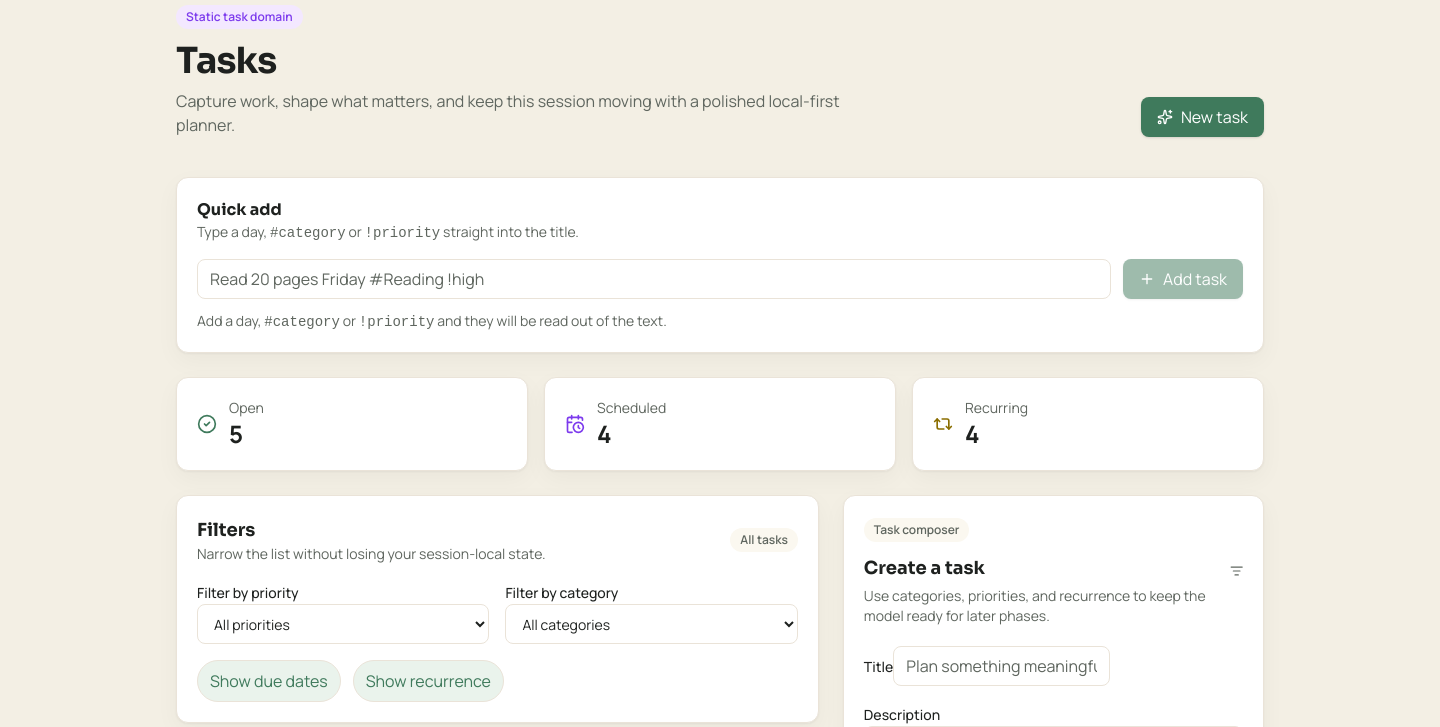
Test case: TasksPage — filtering › narrows the list to a priority
This screenshot has width=1440, height=727.
Step 1. Select "High" in the dropdown labelled "Filter by priority" → [343, 624], box [197,604,489,644]
(page scrolled)
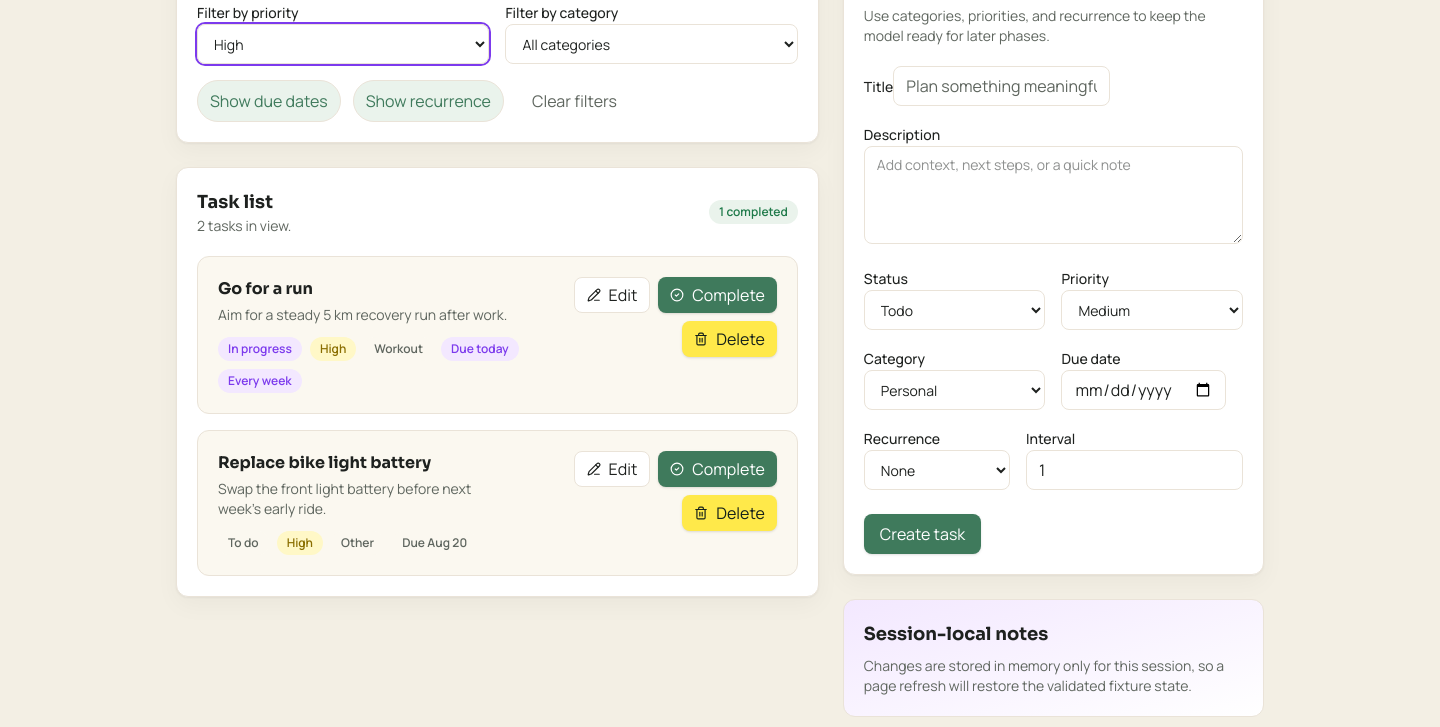
Now the text "2 tasks in view." is shown, box [197,216,291,236]
